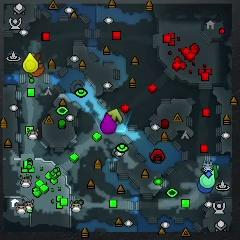p1: (196, 181, 213, 194)
p2: (199, 170, 215, 189)
p3: (100, 111, 117, 134)
p4: (22, 51, 38, 73)
p5: (29, 65, 46, 77)
x2: (106, 108, 122, 124)
x4: (213, 164, 219, 180)
x5: (34, 53, 44, 68)
